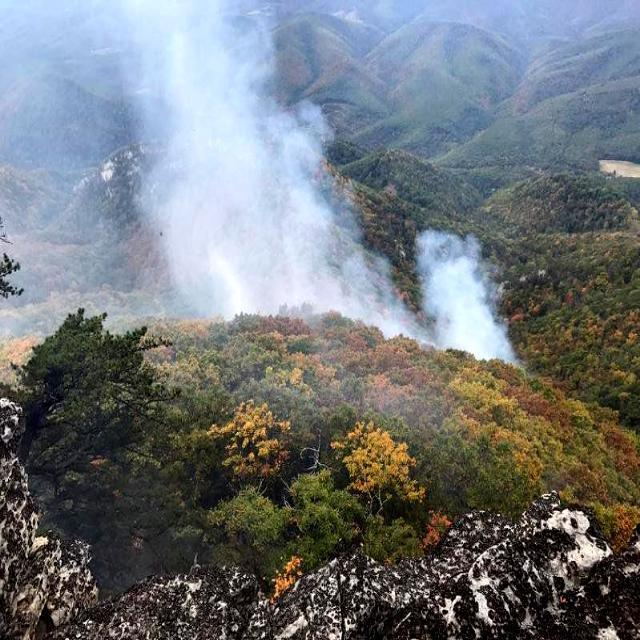Smoke: (0, 0, 362, 343), (400, 214, 514, 376)
